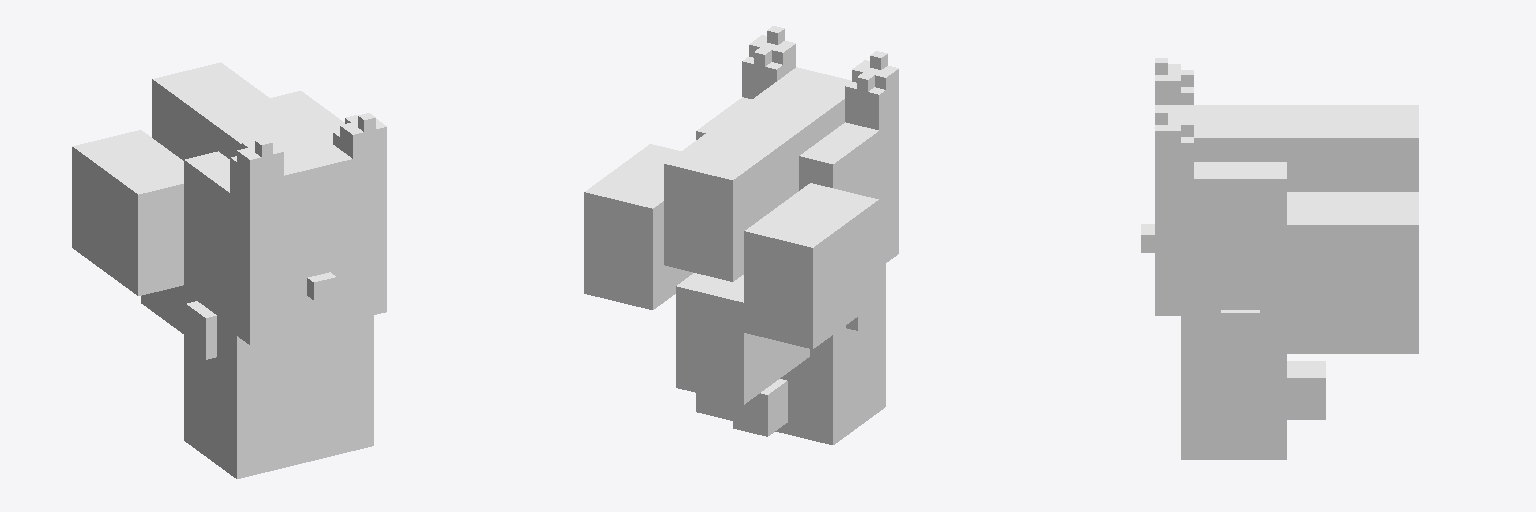
Rendered from scourge_body.obj.
The picture shows the model from 3 angles: view 1: azimuth 30°, elevation 25°; view 2: azimuth 150°, elevation 25°; view 3: azimuth 270°, elevation 25°; orthographic projection.
Visible parts, largest first — view 1: object 1; view 2: object 1; view 3: object 1.
Boxes of the visible parts, <box> form: object 1: <box>72,62,386,478</box>; object 1: <box>584,26,898,444</box>; object 1: <box>1141,58,1418,459</box>.
Bounding box in the file's own units: 8 × 11.4 × 8.4.